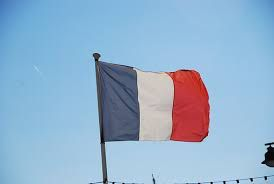French Flag: (96, 61, 210, 142)
